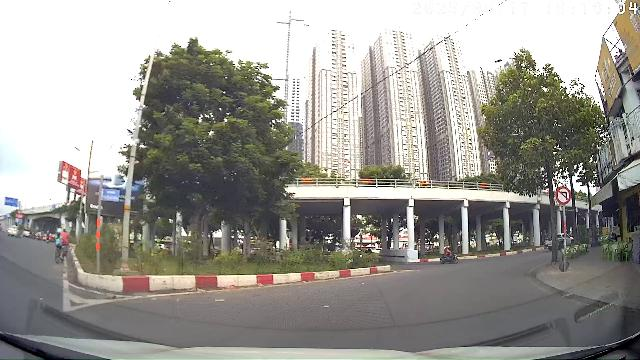123a-cam-re-trai: (555, 186, 571, 206)
